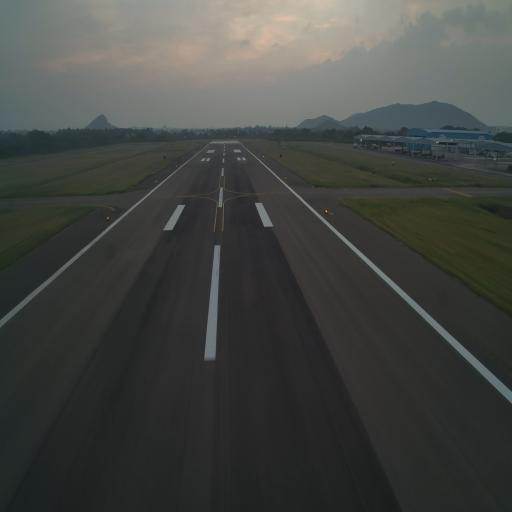on: (324, 207, 330, 216), (105, 213, 110, 221)
